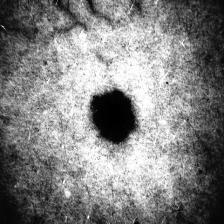Benign Marking or Mole: (91, 87, 134, 144)
